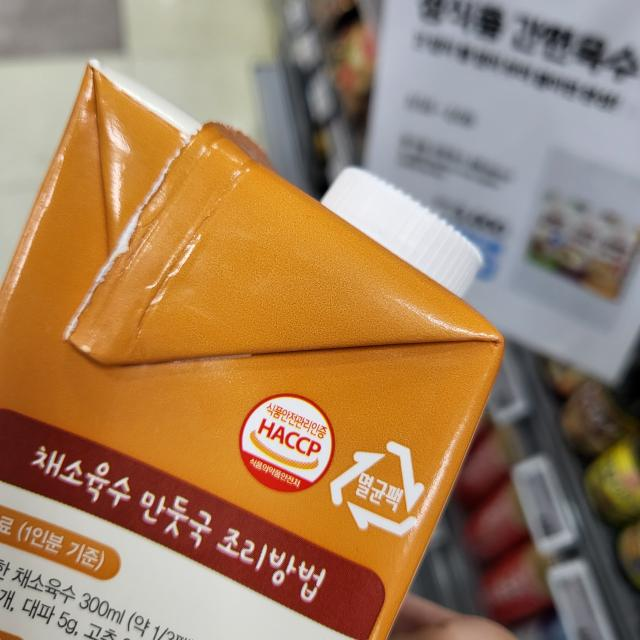SterilizedPack: (328, 432, 429, 538)
